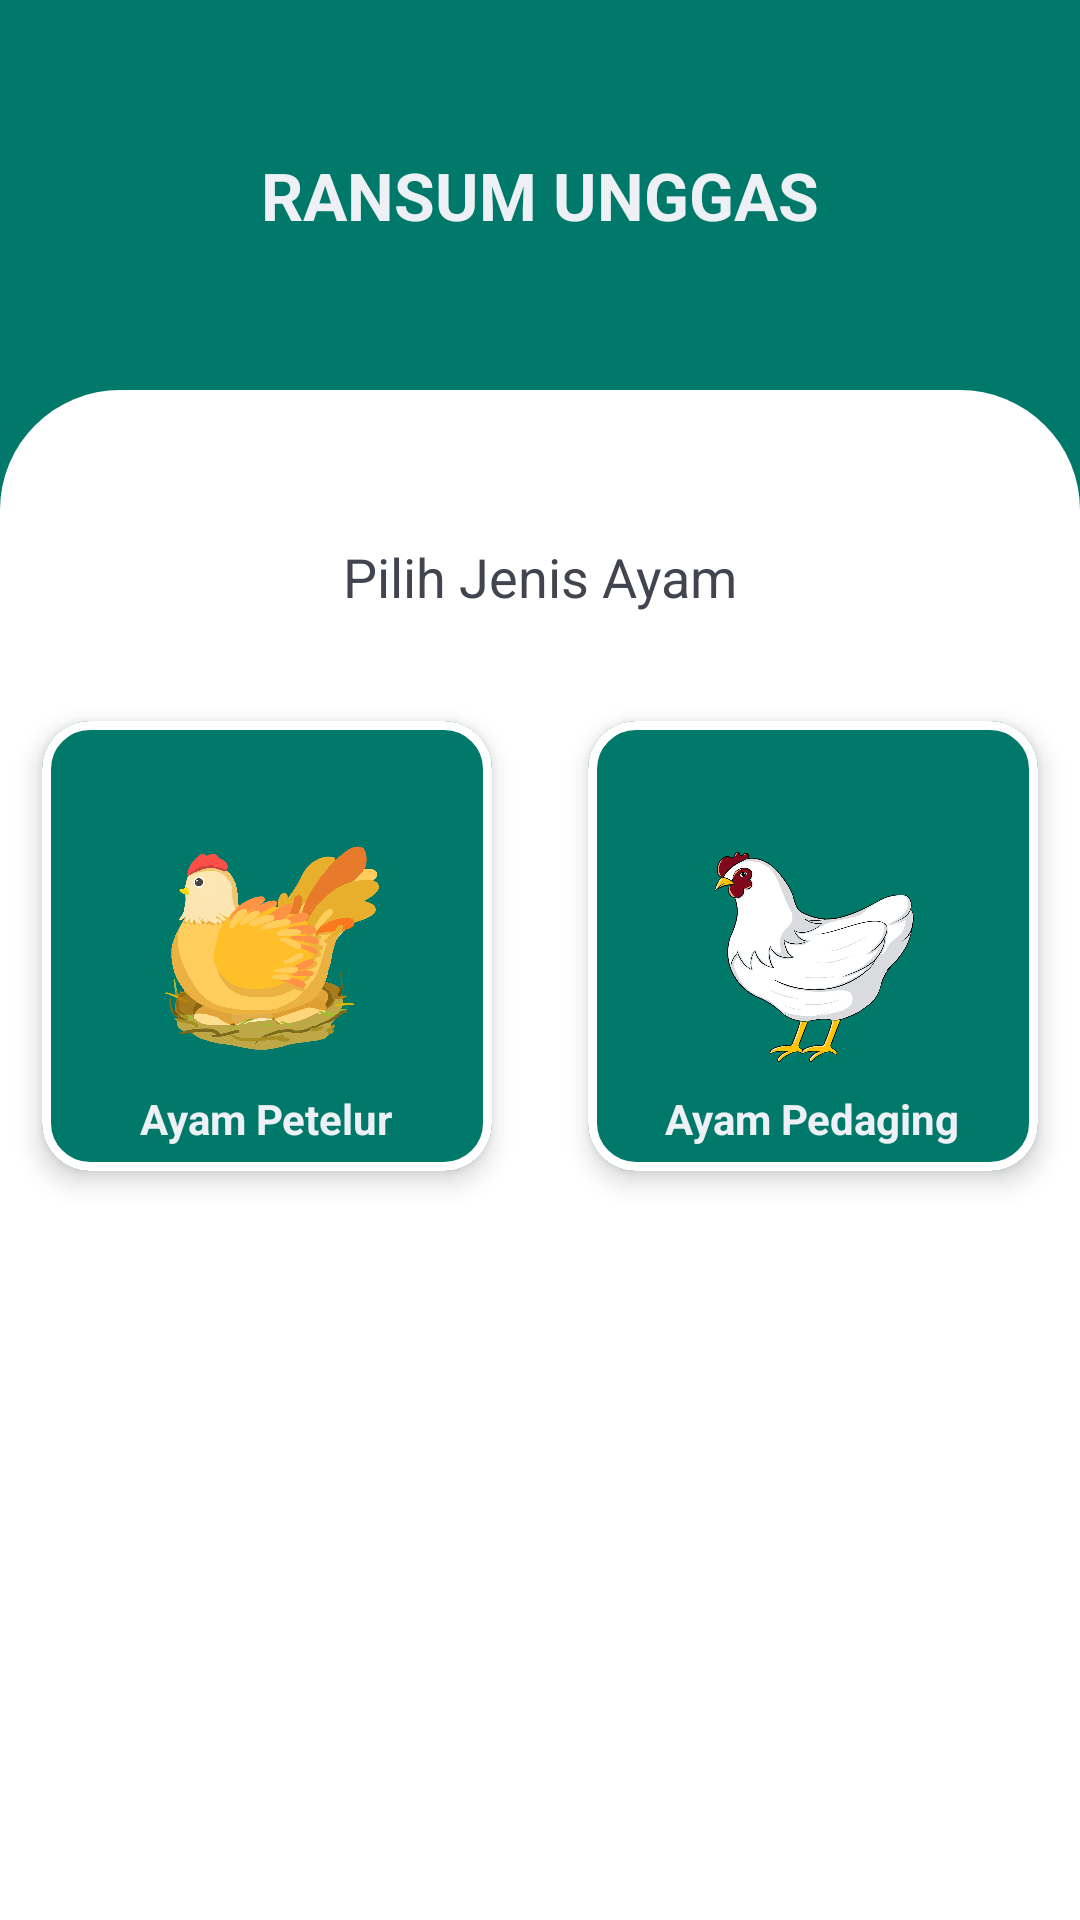

Named icons in this screenshot (1080px×1920px) and their centers, [x,y]:
ayampotong: [814,957]
